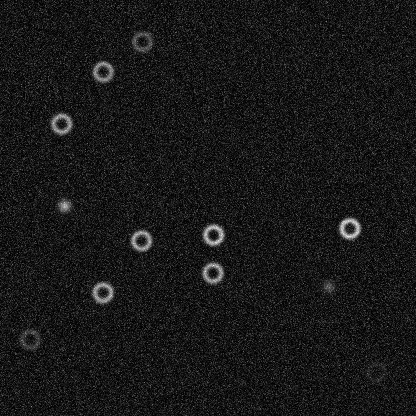Ring: (90, 280, 114, 304), (337, 216, 361, 240), (363, 359, 387, 383), (130, 29, 154, 53), (200, 260, 224, 284), (49, 111, 73, 135), (18, 327, 42, 351), (201, 222, 225, 246), (129, 228, 153, 252), (90, 59, 114, 83)
Spot: (56, 197, 72, 213), (320, 278, 336, 294)
